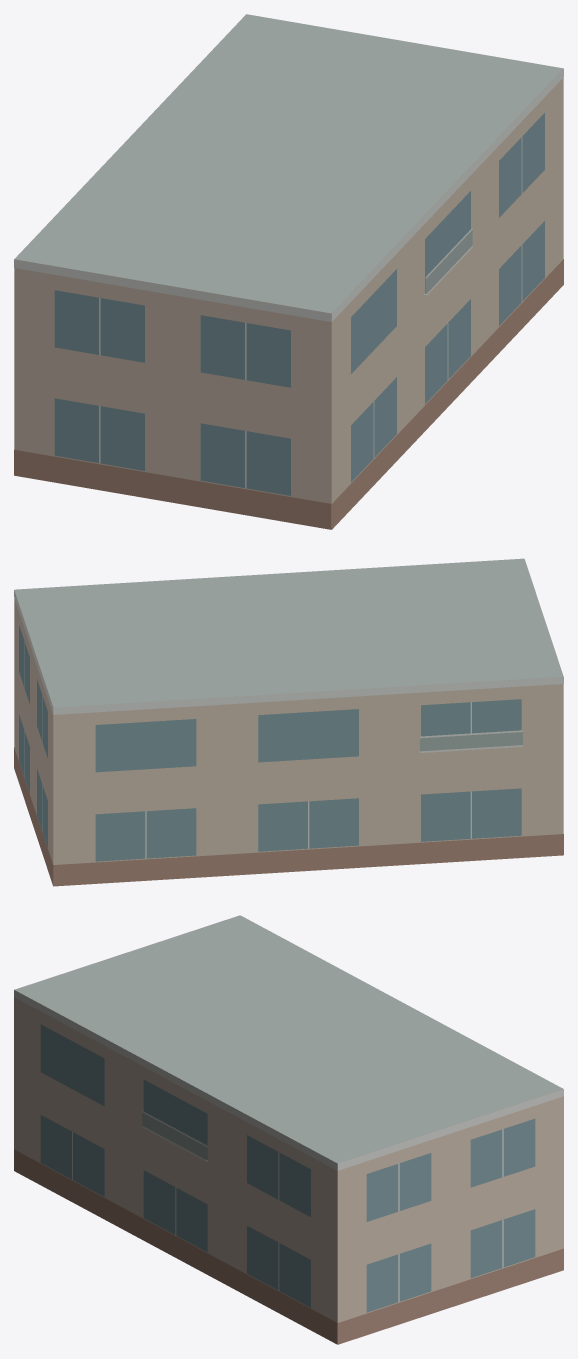
The model's file is survey-upis-32806796.glb.
3 renders of one model, top to bottom at view 1: azimuth 30°, elevation 25°; view 2: azimuth 150°, elevation 25°; view 3: azimuth 270°, elevation 25°, orthographic. The views are drawn at different scales.
Visible parts, largest first — view 1: survey-upis-32806796.tmp; view 2: survey-upis-32806796.tmp; view 3: survey-upis-32806796.tmp.
Boxes of the visible parts, box(x1,y1,x2,y2) form: survey-upis-32806796.tmp: box(14, 14, 563, 529); survey-upis-32806796.tmp: box(14, 558, 563, 886); survey-upis-32806796.tmp: box(14, 915, 563, 1344).
Bounding box in the file's own units: 17.95 × 6.1 × 16.78.
